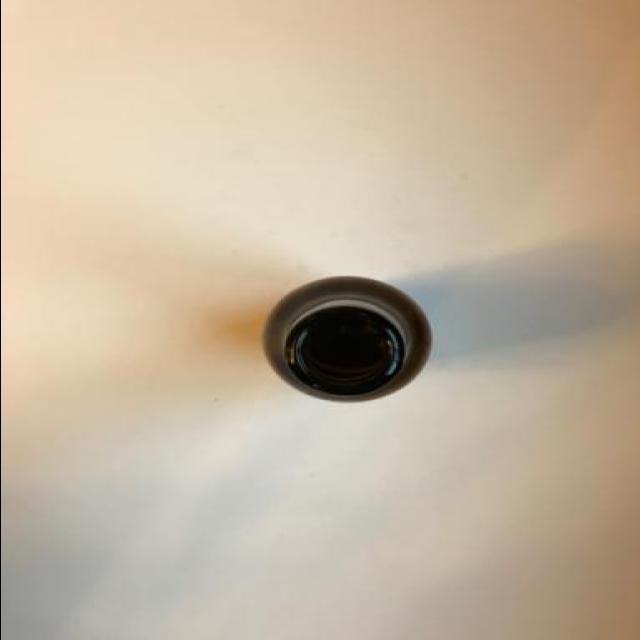glass: (256, 276, 432, 404)
